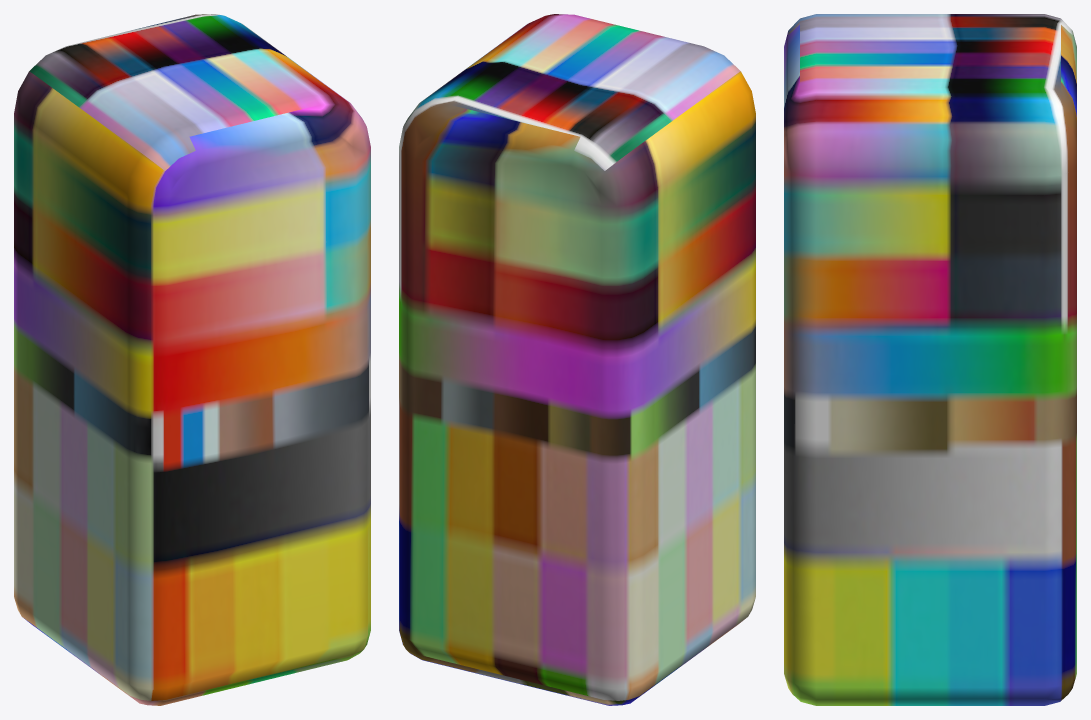
File: TallSmothCube.fbx
3 renders of one model, left to right at view 1: azimuth 30°, elevation 25°; view 2: azimuth 150°, elevation 25°; view 3: azimuth 270°, elevation 25°, orthographic. The views are drawn at different scales.
Visible parts, largest first — view 1: Cube.010; view 2: Cube.010; view 3: Cube.010.
Boxes of the visible parts, x1,y1,x2,y2 form: Cube.010: (14,14,370,705); Cube.010: (399,14,755,705); Cube.010: (784,14,1076,705).
Bounding box in the file's own units: 2 × 4.53 × 2.
